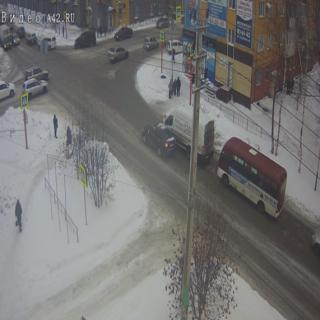large-vehicle: (218, 138, 286, 218), (161, 109, 214, 163), (0, 24, 12, 51)
small-vehicle: (140, 121, 176, 159), (22, 78, 48, 100), (74, 30, 96, 50), (25, 65, 48, 84), (39, 34, 56, 54), (108, 46, 129, 62), (0, 81, 16, 101), (142, 34, 159, 51), (115, 25, 133, 41), (167, 39, 184, 55), (25, 32, 38, 46), (157, 16, 170, 29), (10, 33, 21, 46), (17, 25, 25, 37)
